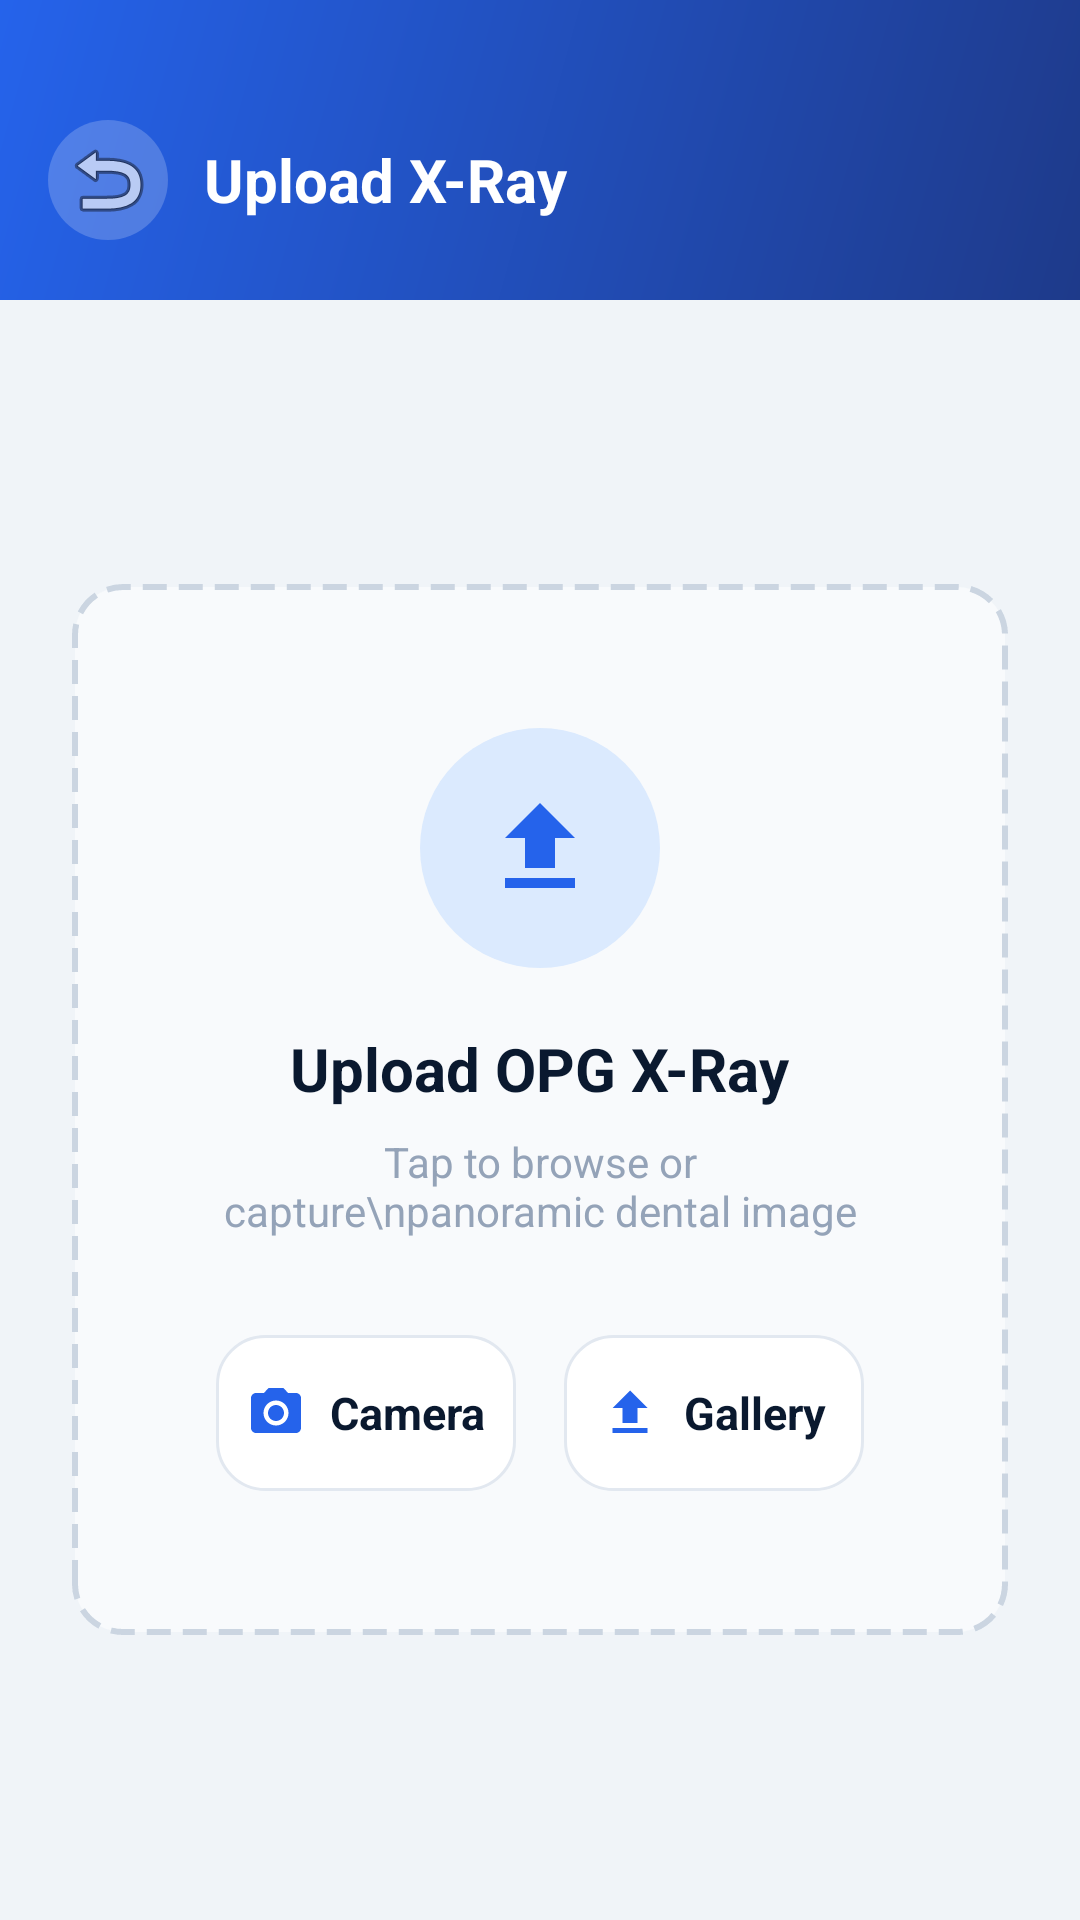

Named icons in this screenshot (1080*1920) and their bounding boxes, box(x1, y1, x2, y2):
revert: box(48, 120, 168, 240)
